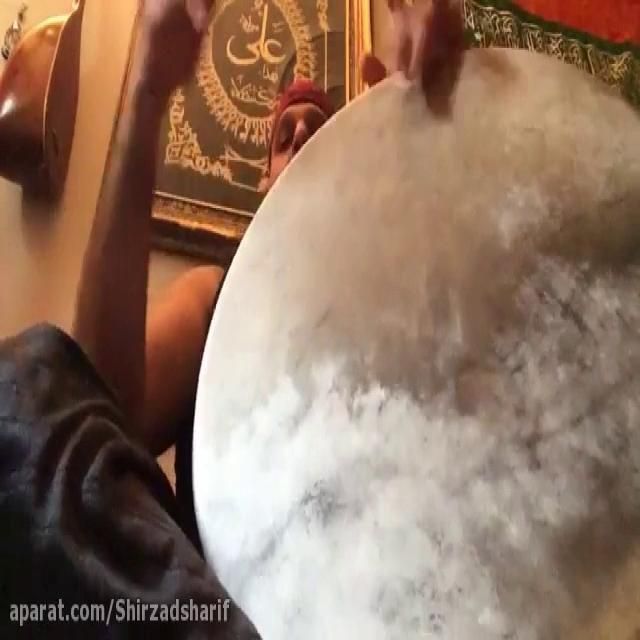Tombak: (174, 34, 640, 640)
